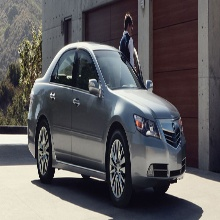no damage: (28, 40, 187, 205)
